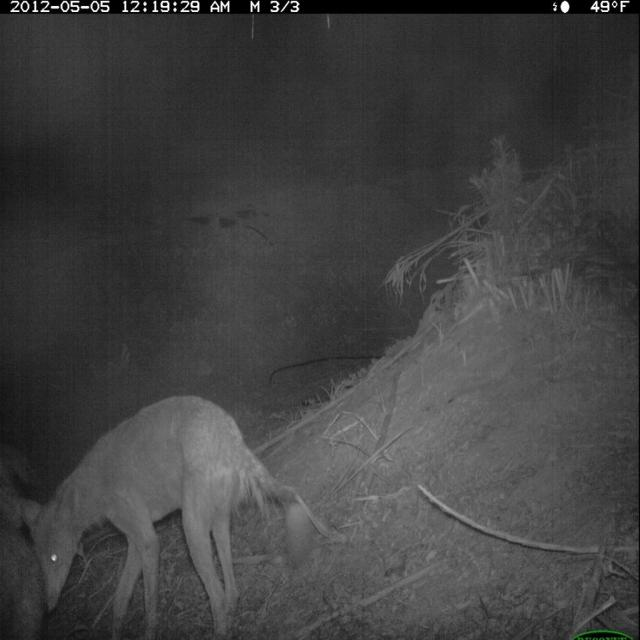coyote: (16, 390, 304, 640)
